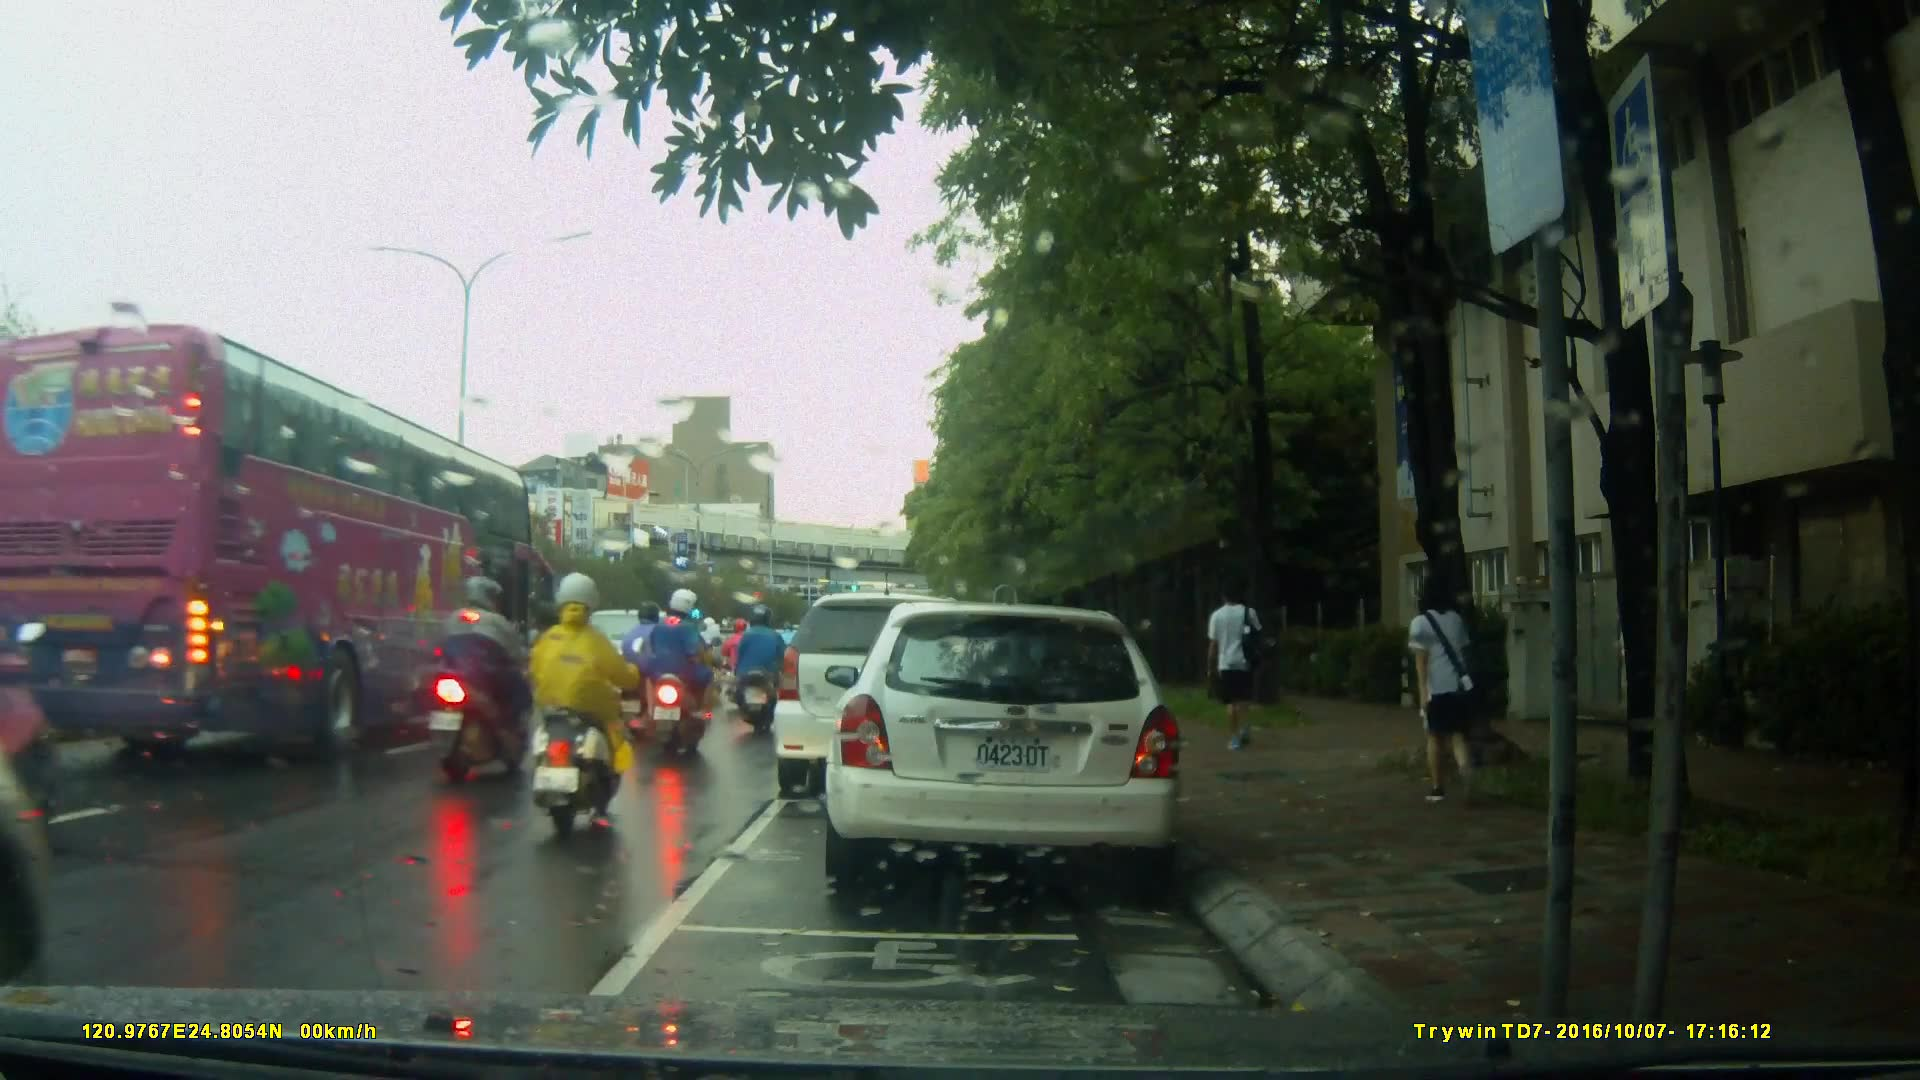pedestrian: (1392, 570, 1480, 815), (1193, 578, 1261, 757)
rider: (527, 569, 628, 840), (436, 571, 540, 787), (643, 583, 712, 778), (729, 604, 793, 743), (622, 598, 676, 739), (721, 616, 765, 703), (778, 620, 810, 689)
vehicle: (9, 324, 547, 755), (835, 594, 1194, 898), (776, 590, 1026, 784), (552, 607, 714, 739)
